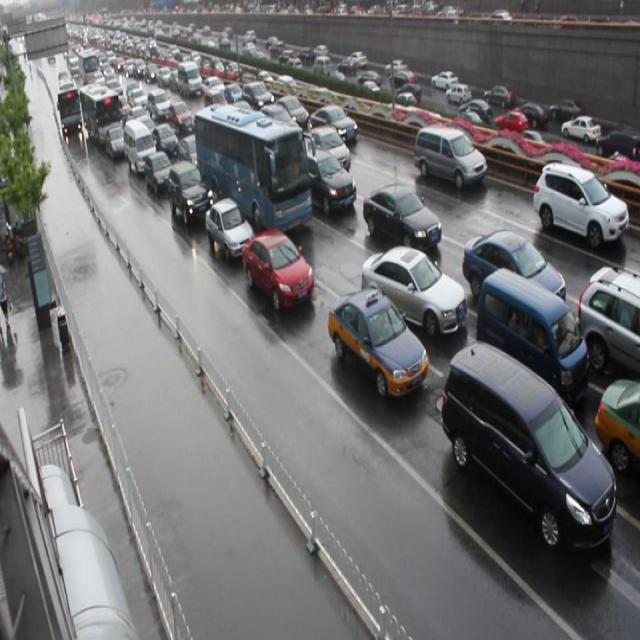car: (326, 288, 426, 398), (360, 246, 465, 338), (460, 228, 564, 310), (532, 161, 626, 247), (575, 267, 640, 378), (240, 231, 312, 311), (361, 184, 440, 254), (591, 378, 640, 474), (302, 150, 356, 215), (204, 197, 254, 259), (168, 161, 211, 224), (304, 128, 349, 178), (308, 105, 355, 150), (270, 97, 305, 134), (142, 151, 172, 193), (177, 136, 205, 172), (151, 124, 177, 157)
truck: (440, 340, 614, 552), (474, 268, 587, 398), (412, 122, 486, 191)
van: (194, 104, 310, 237)
